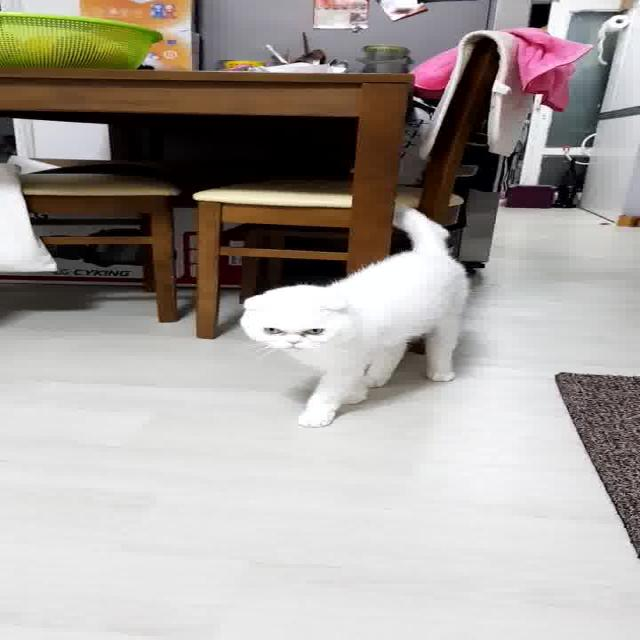cat: (239, 196, 479, 432)
